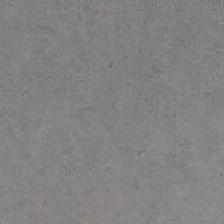Non_Crack: (12, 26, 218, 211)
